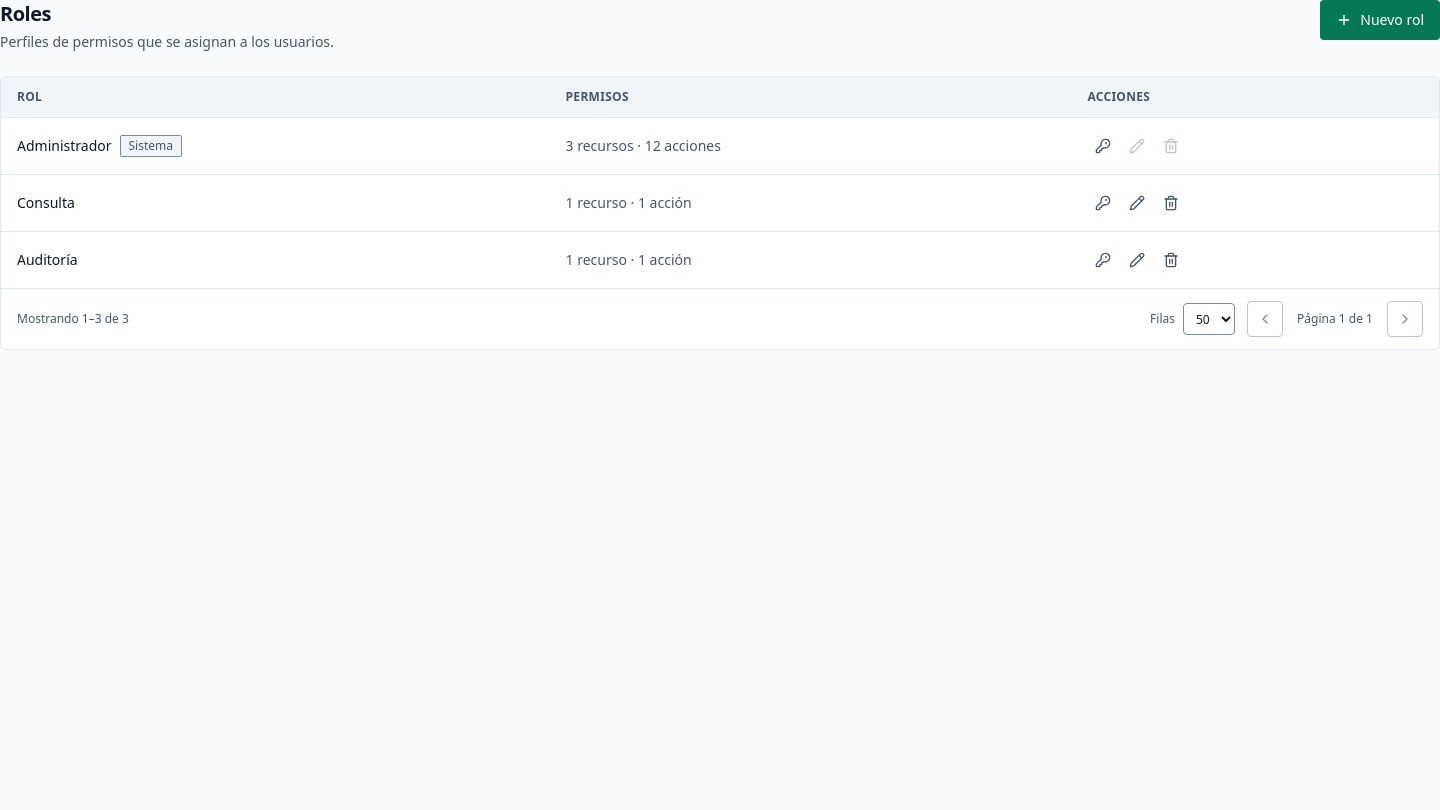
it: RolesPage · vista de árbol › propaga la selección de una categoría completa y la guarda
Expected: the cell "Consulta" is shown, x1=1 y1=174 x2=550 y2=232
Step 1. Click the button named "Ver permisos de Consulta" → (1103, 203), box x1=1087 y1=187 x2=1119 y2=219
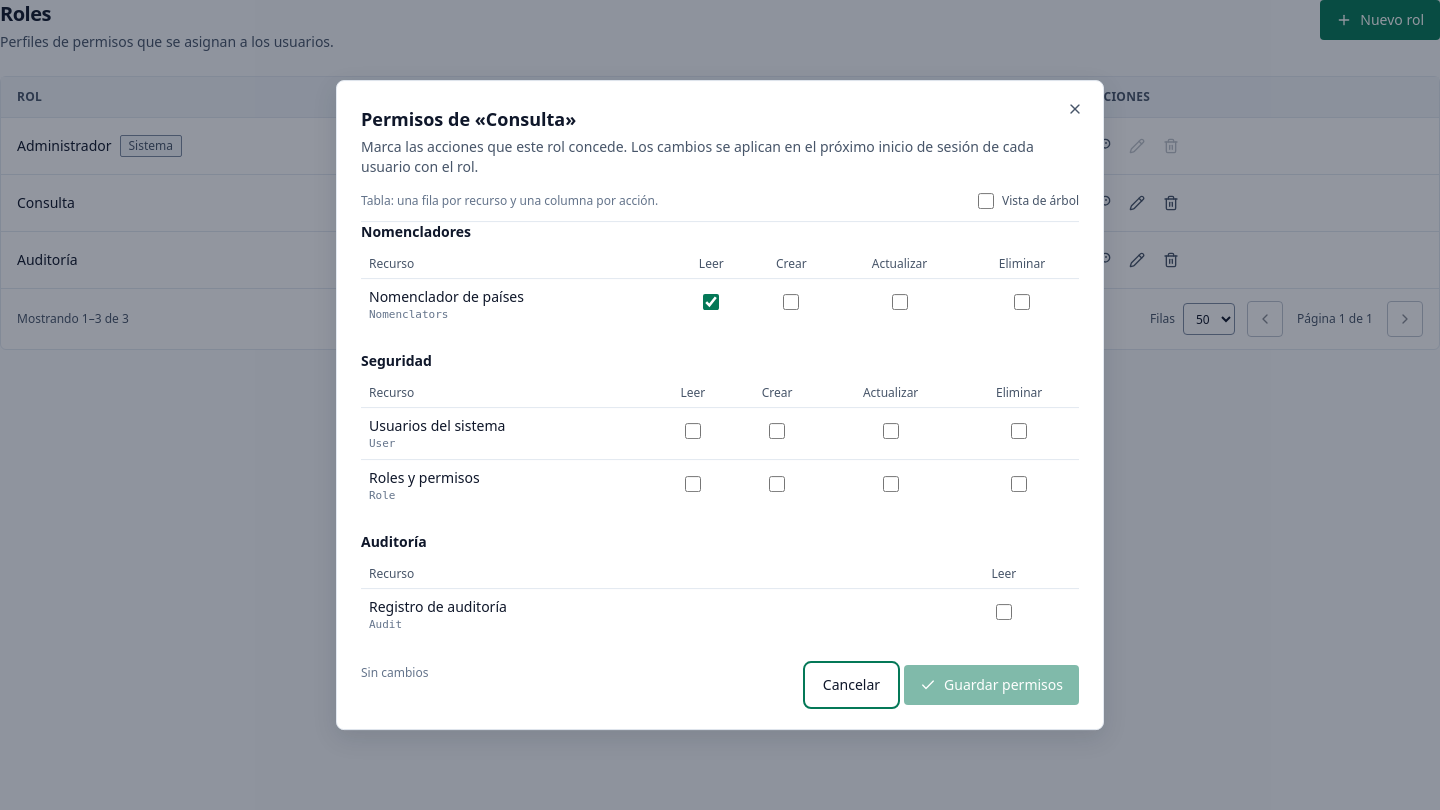
Step 2. Click the checkbox labelled "Vista de árbol" → (986, 201), box x1=978 y1=193 x2=994 y2=209
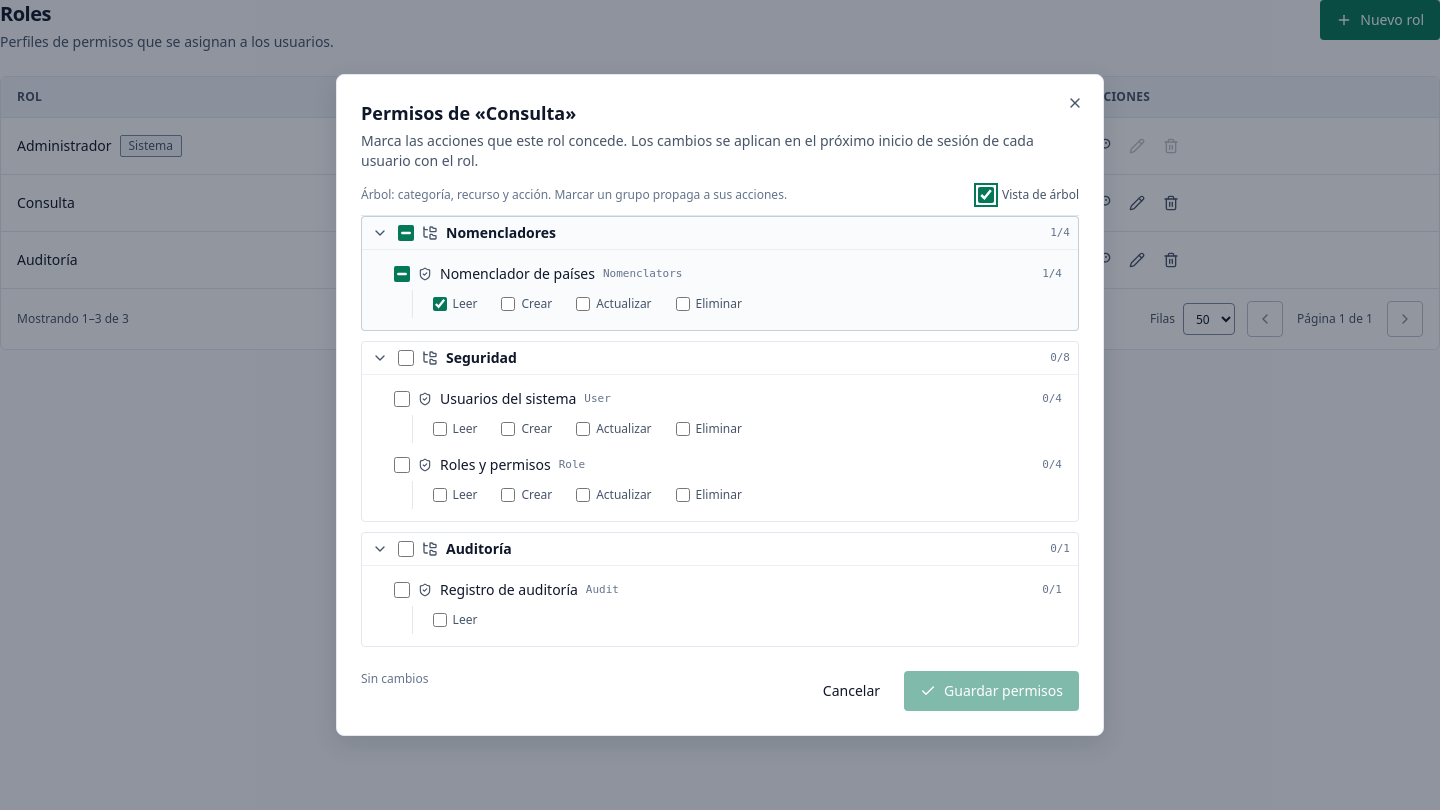
Step 3. Click the checkbox named "Todos los permisos de Seguridad" → (406, 358), box x1=398 y1=350 x2=414 y2=366
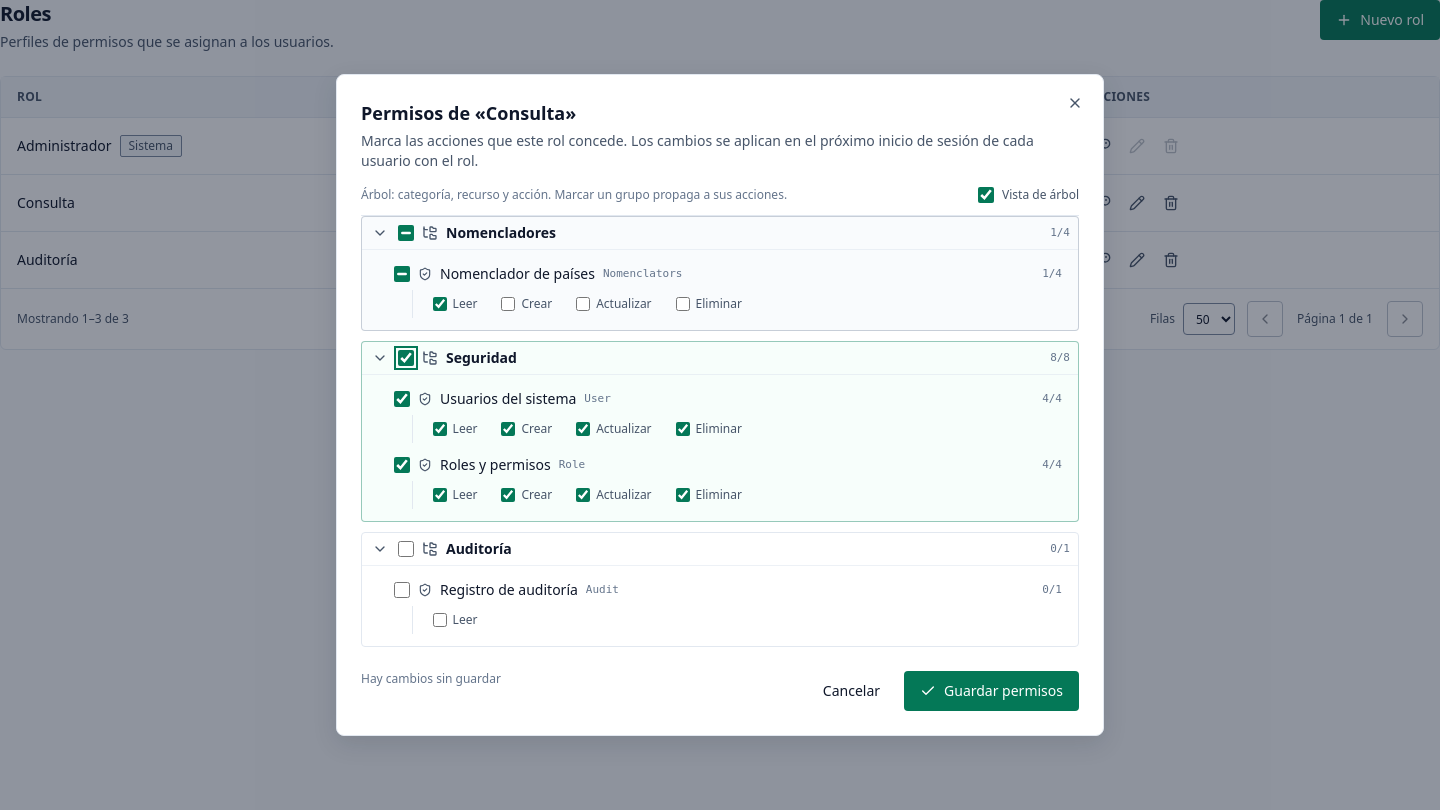
Expected: the checkbox named "Crear en Usuarios del sistema (Seguridad)" is checked, x1=501 y1=422 x2=515 y2=436
Expected: the checkbox named "Eliminar en Roles y permisos (Seguridad)" is checked, x1=676 y1=488 x2=690 y2=502
Step 4. Click the button "Guardar permisos" → (992, 691), box x1=904 y1=671 x2=1079 y2=711
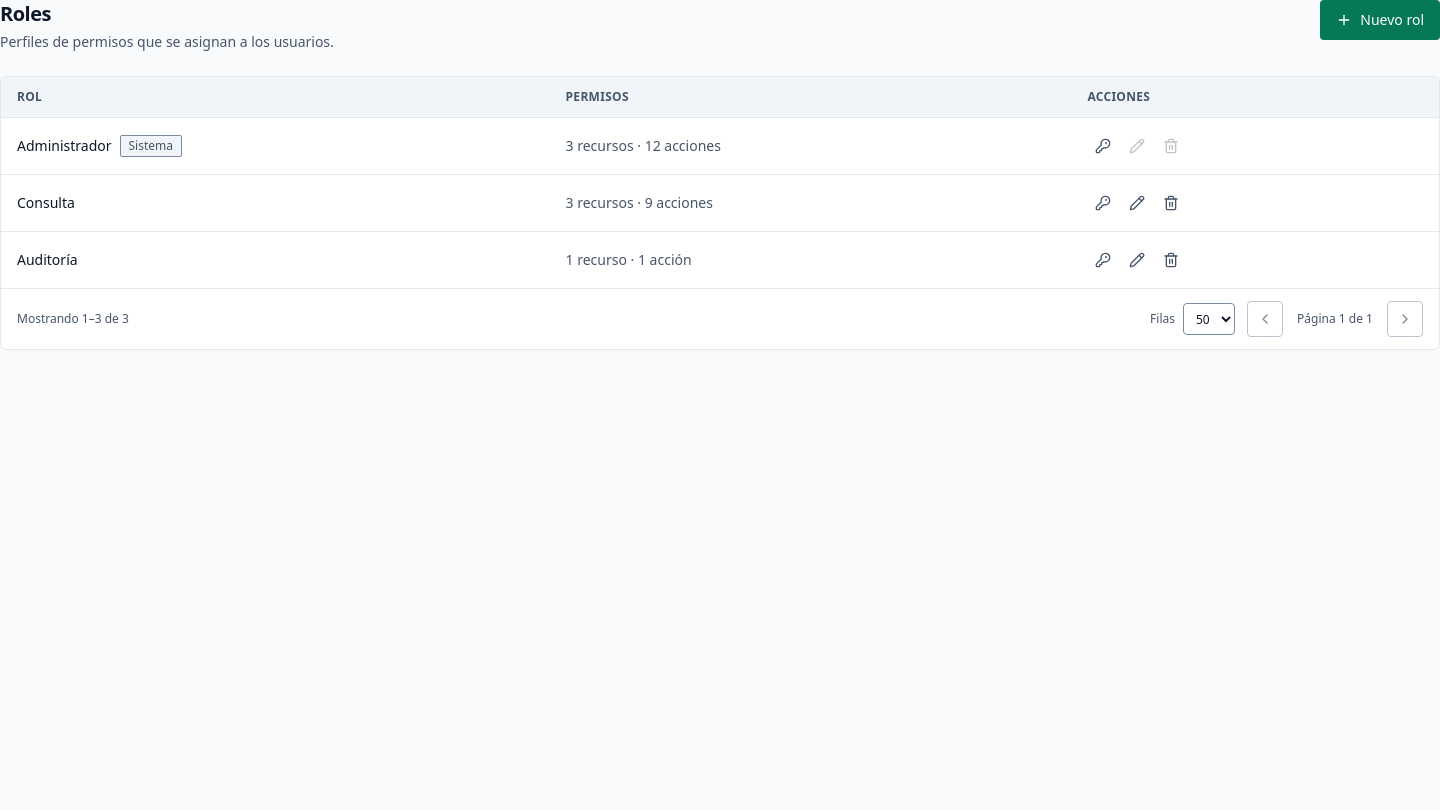
Expected: the dialog is gone
Note: La preferencia de vista sobrevive al guardado.
Step 5. Click the button named "Ver permisos de Consulta" → (1103, 203), box x1=1087 y1=187 x2=1119 y2=219
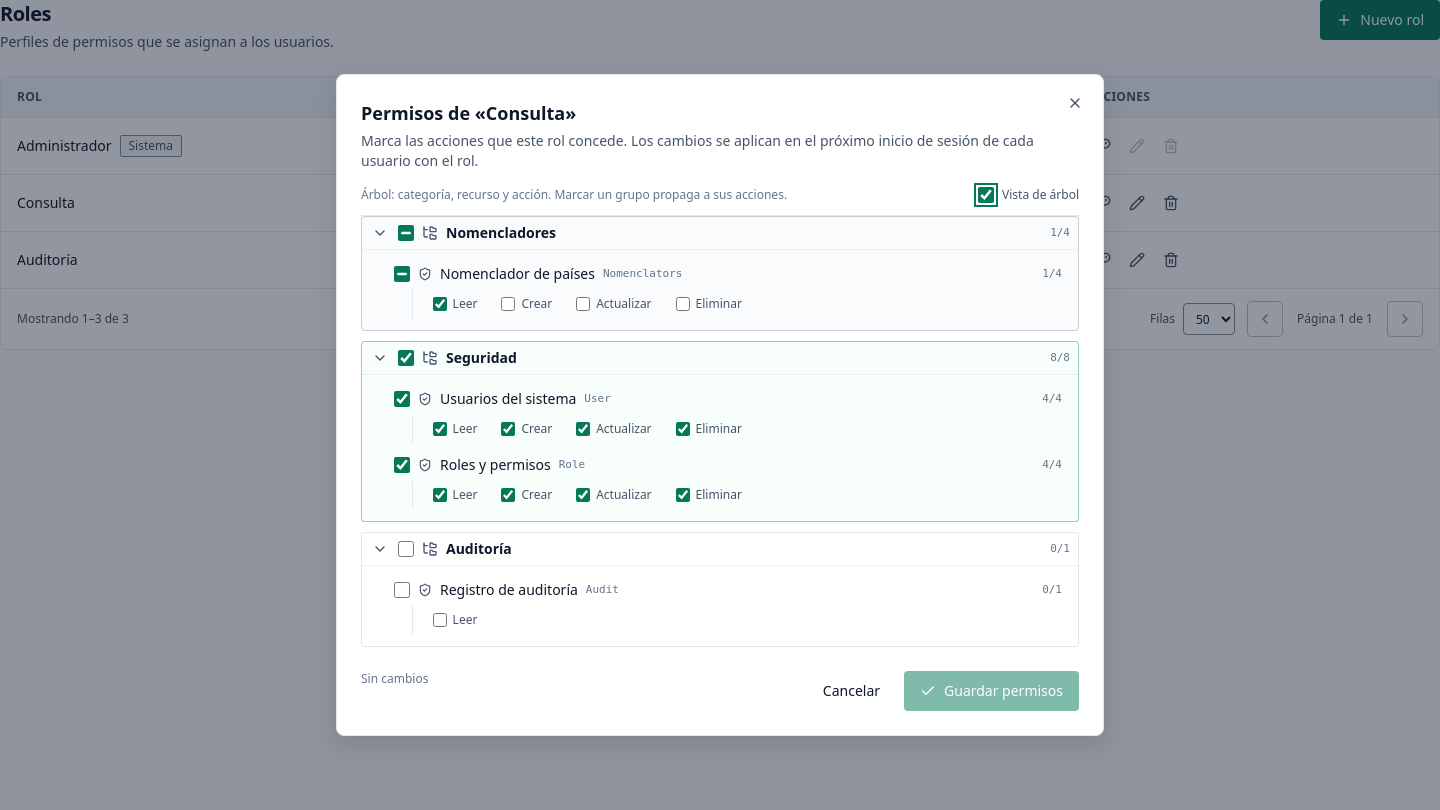
Expected: the text "3 recursos · 9 acciones" is shown, x1=566 y1=193 x2=713 y2=212
Expected: the checkbox labelled "Vista de árbol" is checked, x1=978 y1=187 x2=994 y2=203
Expected: the checkbox named "Crear en Usuarios del sistema (Seguridad)" is checked, x1=501 y1=422 x2=515 y2=436
